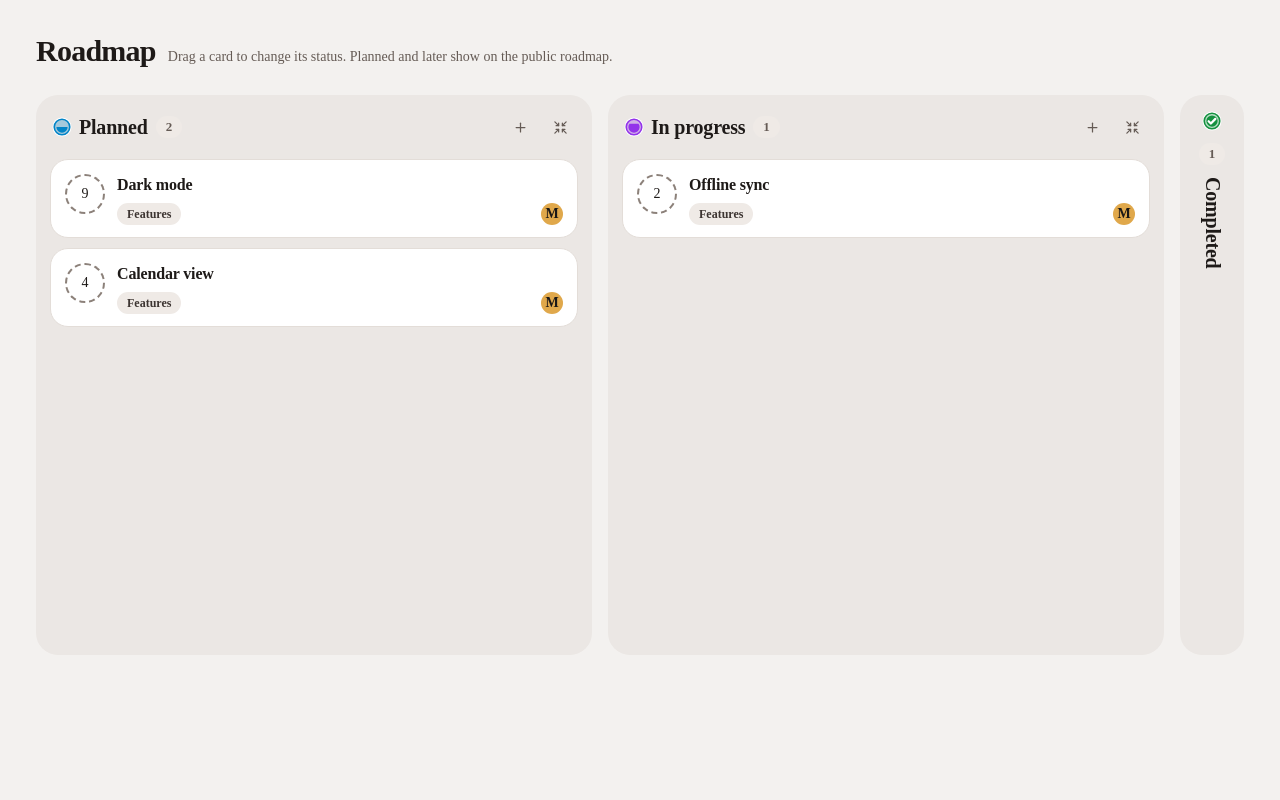
Test: RoadmapBoard › collapses a column to a labelled strip that is still a drop target
Click the button with aria-label "Completed, 1 in the last 30 days. Expand" at point(1212, 375), box [1180,95,1244,655]
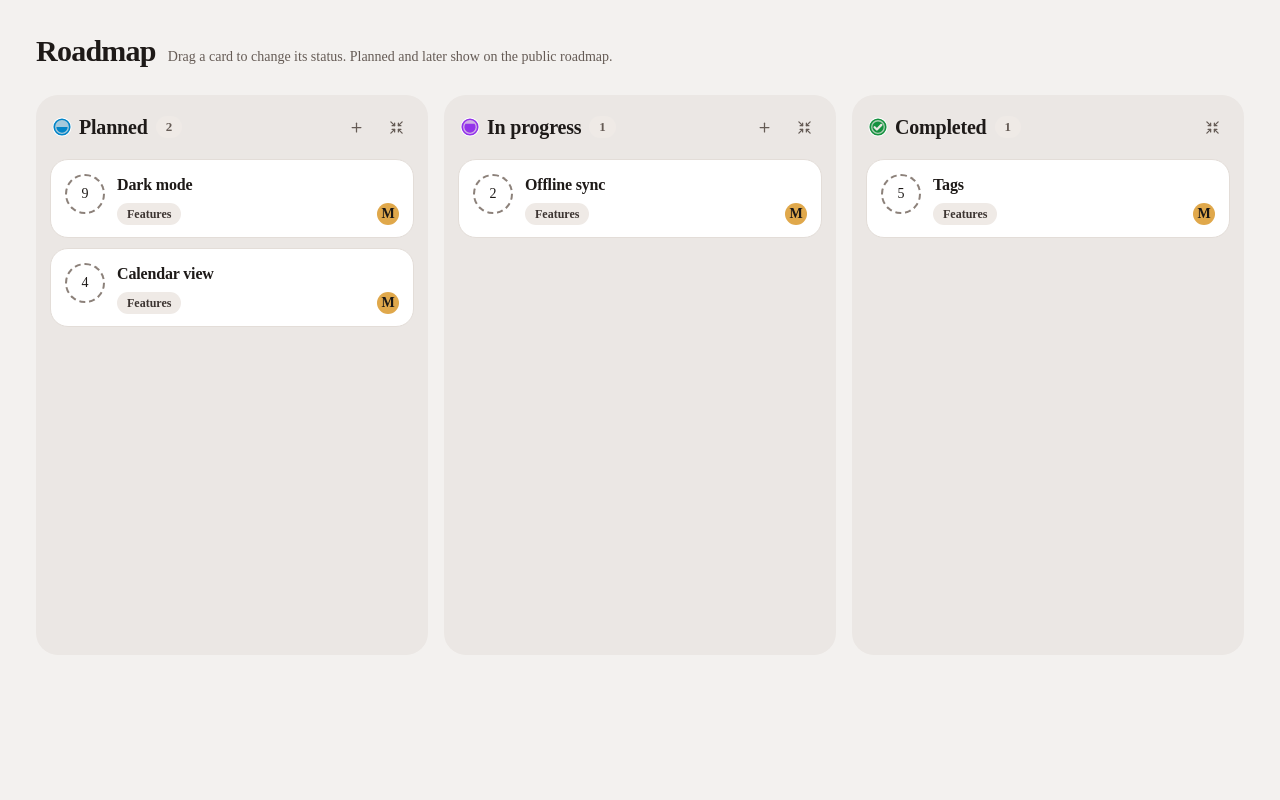
expect the element "Completed" is shown: met, box [852,95,1244,655]
